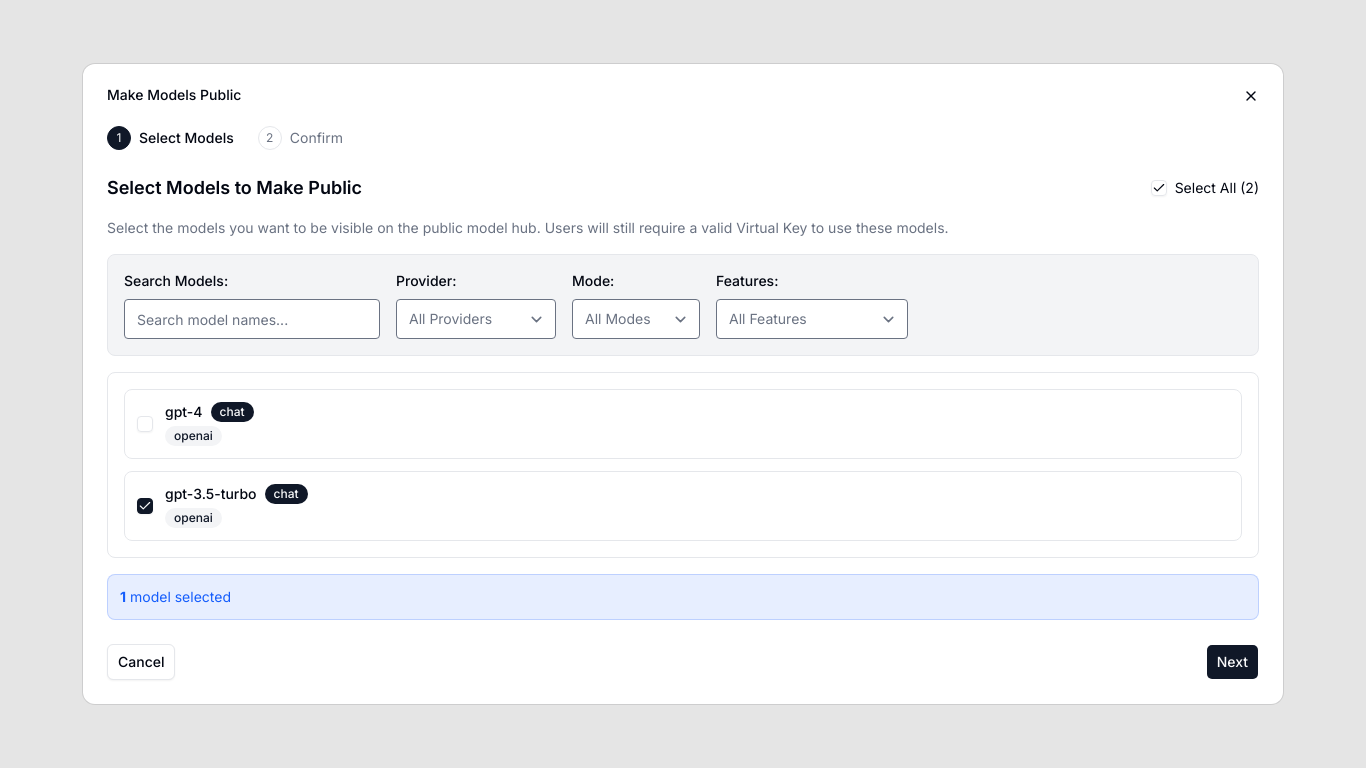
Test: MakeModelPublicForm › should handle model selection and navigation
Expected: the heading "Select Models to Make Public" is shown, [107,174,362,202]
# Select all models using the select all checkbox
Click the checkbox named "Select All (2)" next to "Select All": (1159,188) [1151,180,1167,196]
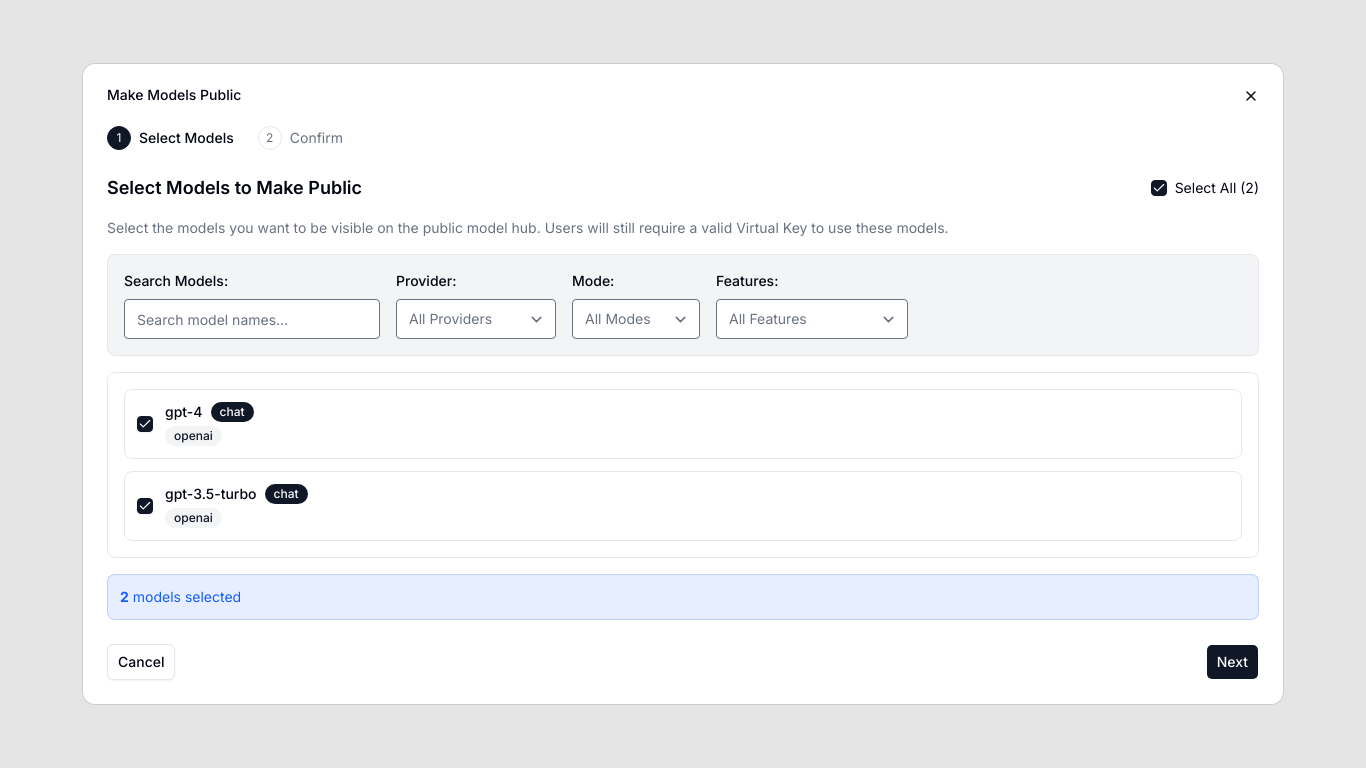
# Click Next
Click the button "Next": (1232,662) [1206,644,1259,680]
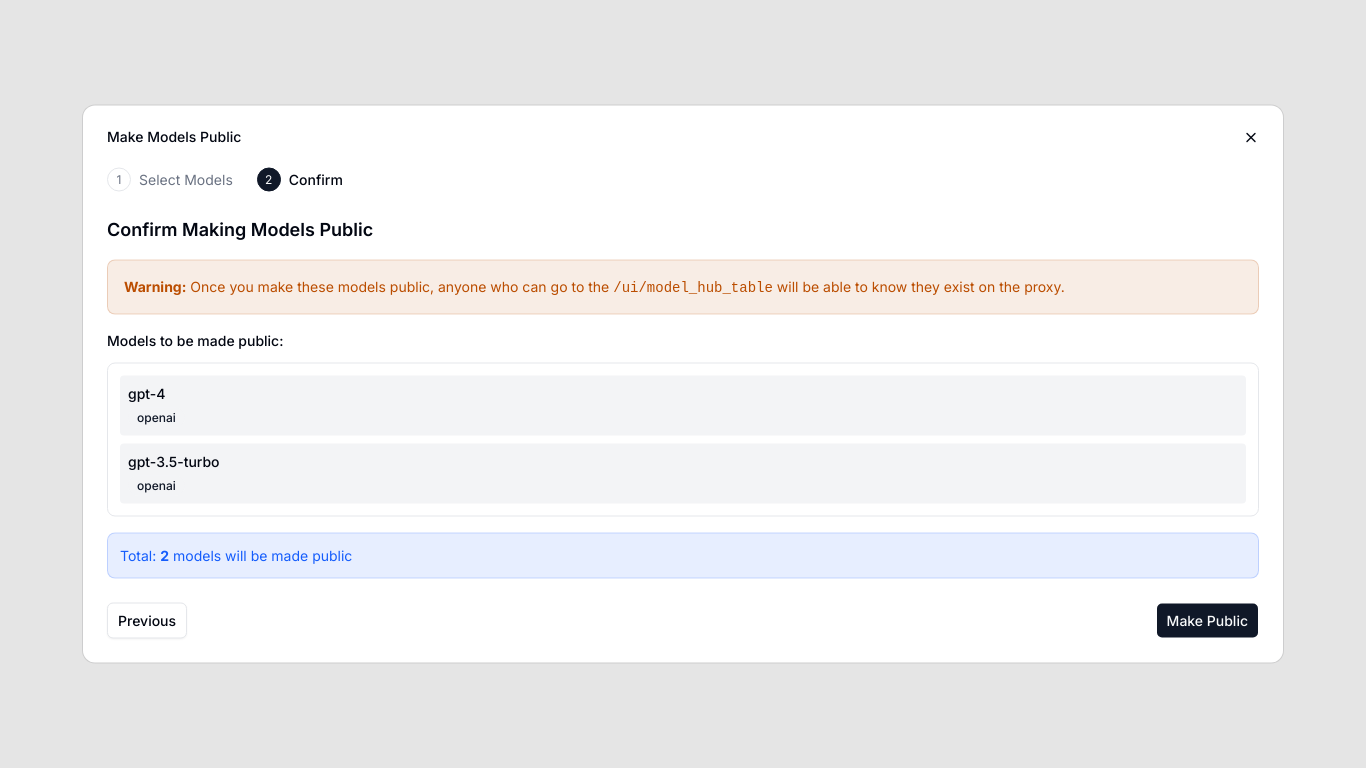
Result: the heading "Confirm Making Models Public" is shown at [107,218,373,240]
